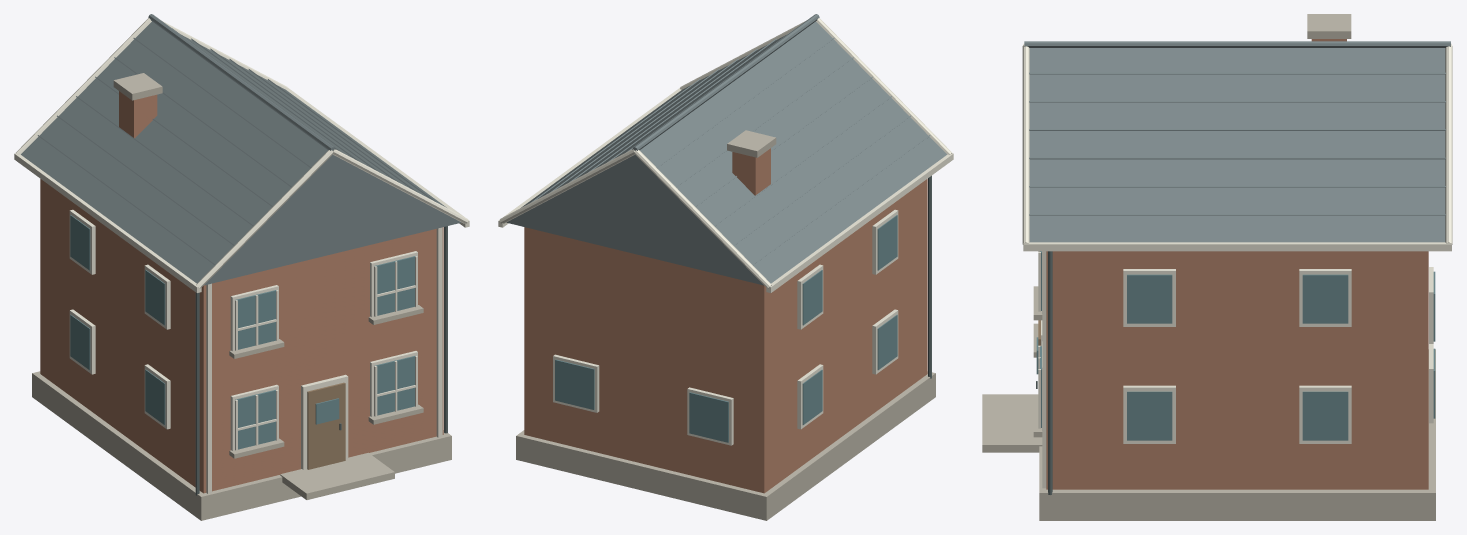
3 renders of one model, left to right at view 1: azimuth 30°, elevation 25°; view 2: azimuth 150°, elevation 25°; view 3: azimuth 270°, elevation 25°, orthographic. The views are drawn at different scales.
Size of the model in its own units: 7.73 by 9.42 by 9.84.
